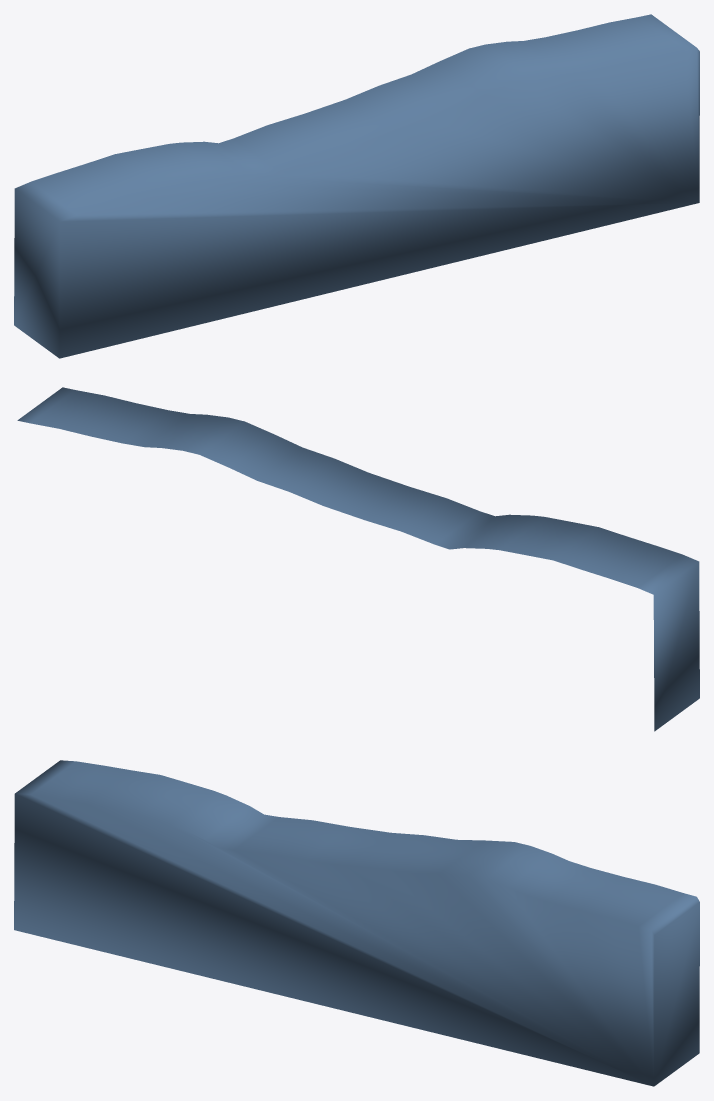
Rendered from farther.glb.
3 renders of one model, top to bottom at view 1: azimuth 30°, elevation 25°; view 2: azimuth 150°, elevation 25°; view 3: azimuth 330°, elevation 25°, orthographic.
Visible parts, largest first — view 1: Farther; view 2: Farther; view 3: Farther.
Boxes of the visible parts, box(x1,y1,x2,y2) form: Farther: box(14, 14, 699, 358); Farther: box(17, 387, 699, 731); Farther: box(14, 760, 699, 1086).
Bounding box in the file's own units: 5 × 1.24 × 0.6159.
